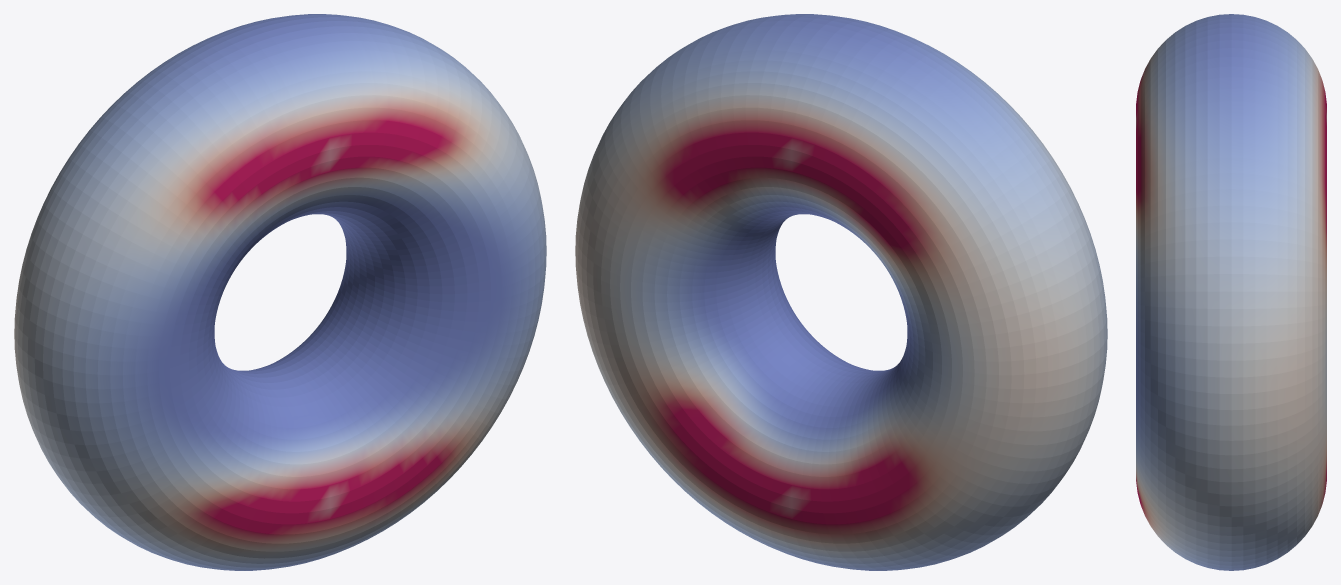
The picture shows the model from 3 angles, left to right: view 1: azimuth 30°, elevation 25°; view 2: azimuth 150°, elevation 25°; view 3: azimuth 270°, elevation 25°; orthographic projection. The views are drawn at different scales.
Parts seen in each view (by area): view 1: world; view 2: world; view 3: world.
Part boxes in pixels (box(x1,y1,x2,y2)): world: box(14, 14, 546, 570); world: box(575, 14, 1107, 570); world: box(1136, 14, 1326, 570).
Bounding box in the file's own units: 18.27 × 18.27 × 6.25.
